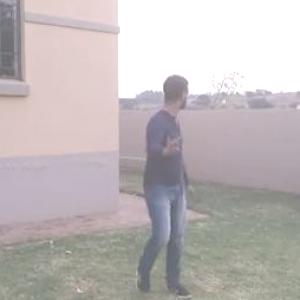takeoff-hand: (154, 127, 184, 162)
